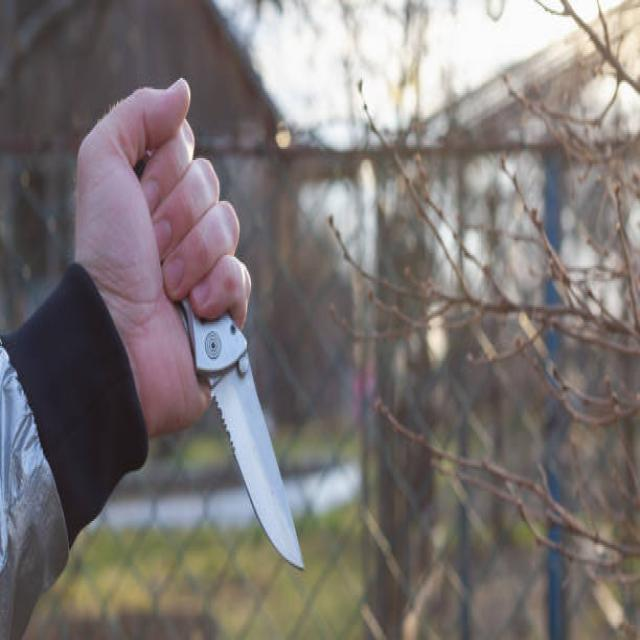faca: (88, 48, 330, 601)
